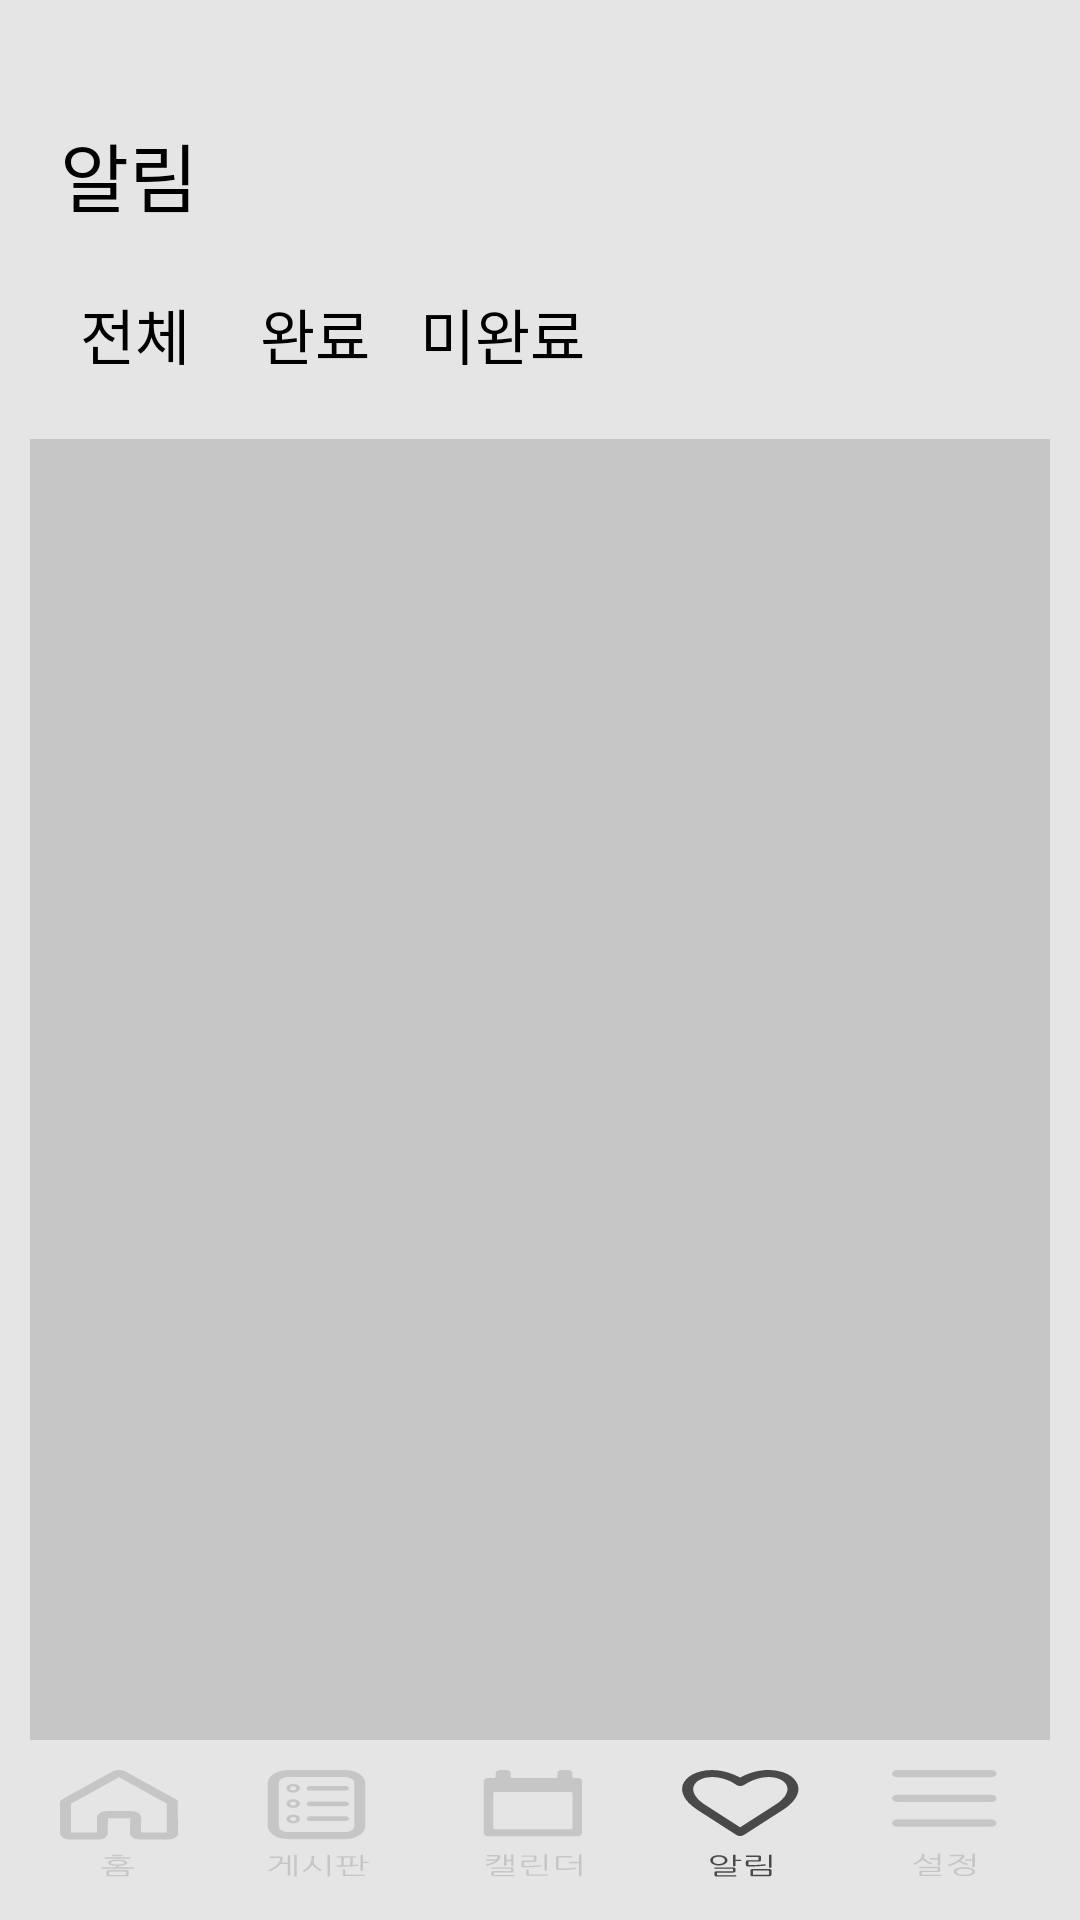

Named icons in this screenshot (1080*1920) and their centers, (x,y):
planner: (533,1823)
